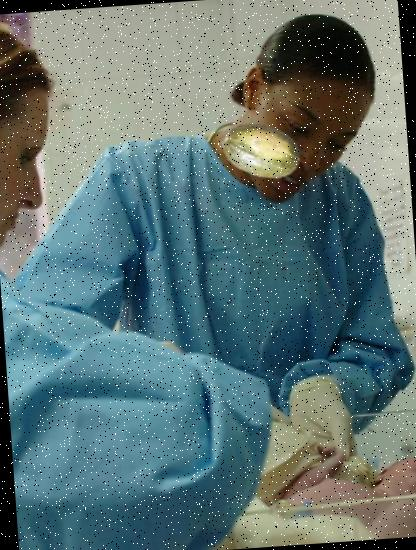Melon: (219, 108, 303, 192)
